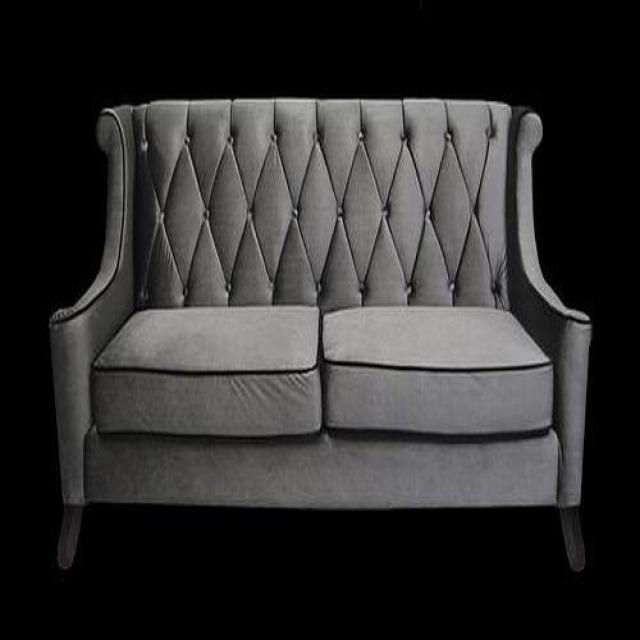sofa: (46, 99, 594, 582)
